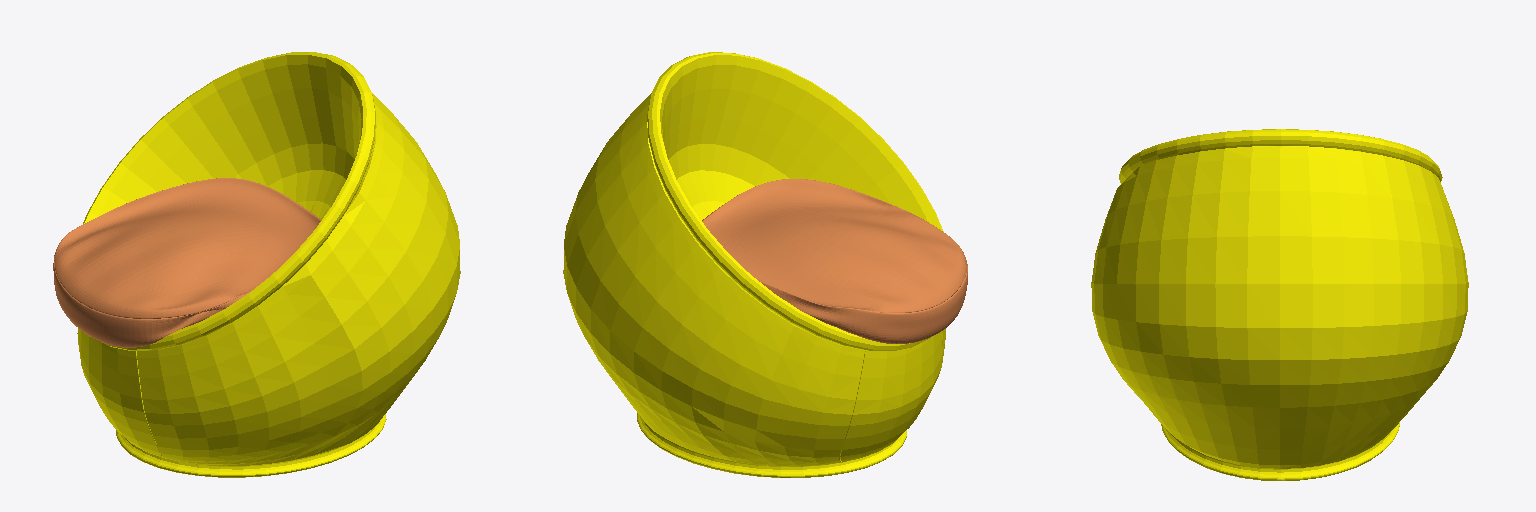
Rendered from poly_chair.obj.
3 renders of one model, left to right at view 1: azimuth 30°, elevation 25°; view 2: azimuth 150°, elevation 25°; view 3: azimuth 270°, elevation 25°, orthographic.
Visible parts, largest first — view 1: Object001, cushion; view 2: Object001, cushion; view 3: Object001.
Part boxes in pixels (bbox=[...]): Object001: bbox=[77, 52, 460, 477]; cushion: bbox=[53, 178, 321, 347]; Object001: bbox=[563, 52, 945, 477]; cushion: bbox=[702, 179, 967, 343]; Object001: bbox=[1091, 129, 1468, 480].
Bounding box in the file's own units: 243 × 218 × 219.